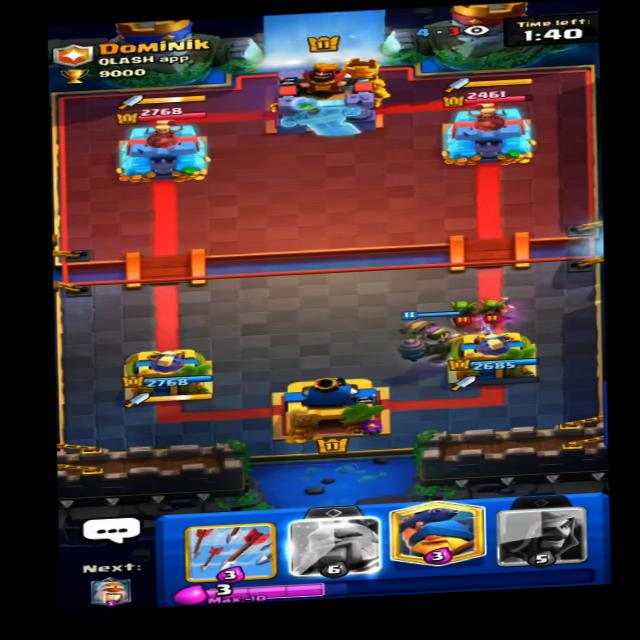goblin: (441, 294, 479, 322), (481, 294, 517, 317)
